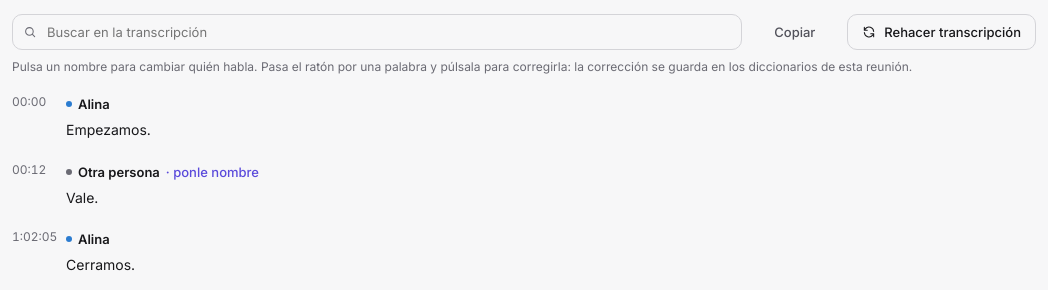
it: finds words in the transcript, counts them and marks them
This screenshot has width=1048, height=290.
Type "amos" into the search field labelled "Buscar en la transcripción" at (384, 32), box [45, 22, 723, 42]
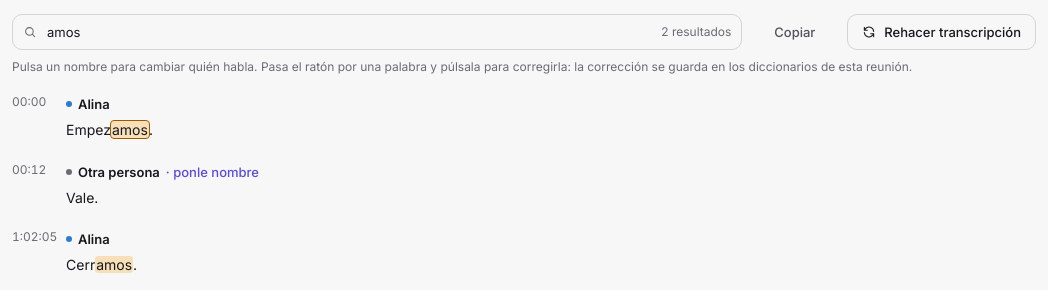
Now the text "2 resultados" is shown, box [661, 23, 731, 41]
Replace the text in the search field named "Buscar en la transcripción" with "nadie" at (349, 32), box [45, 22, 653, 42]
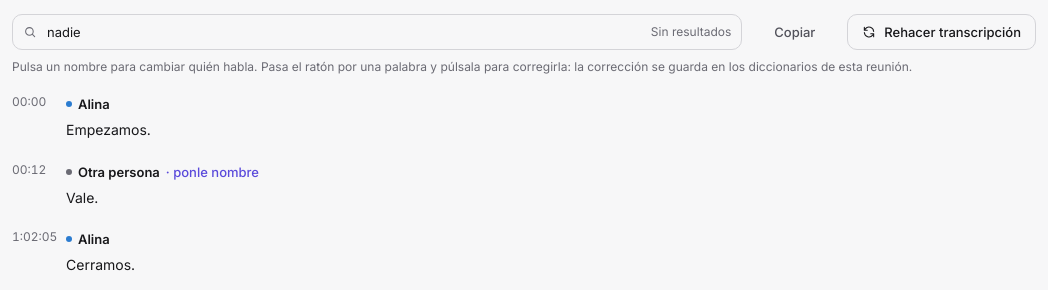
Now the text "Sin resultados" is shown, box [651, 23, 731, 41]
